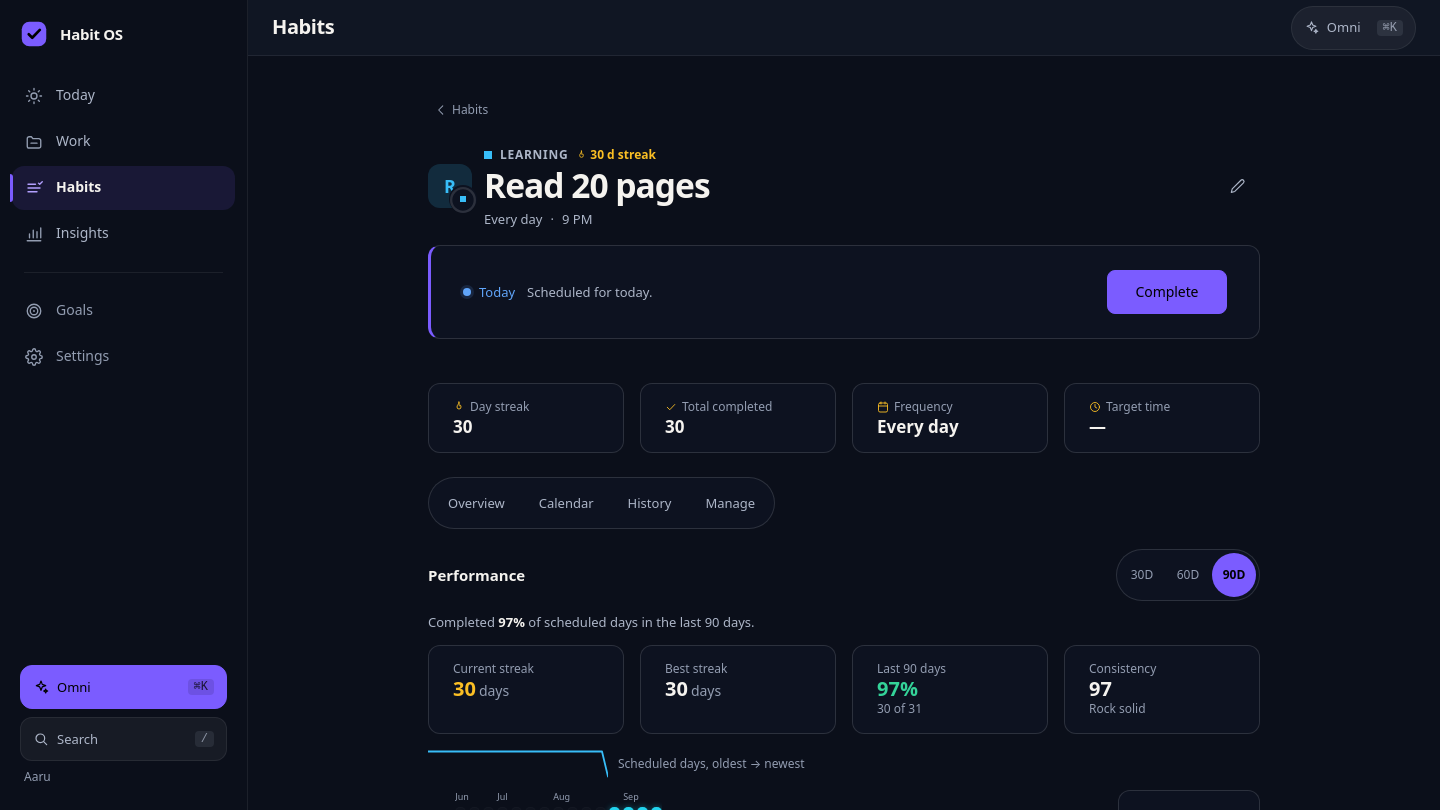
Step 4G-2B: Habit Detail hero compact entity header › Complete toggles to Completed/Undo with canonical aria-pressed
The width and height of the screenshot is (1440, 810).
Click the button with aria-label "Mark Read 20 pages as complete" at coordinates (1167, 292), box x1=1107 y1=270 x2=1227 y2=314
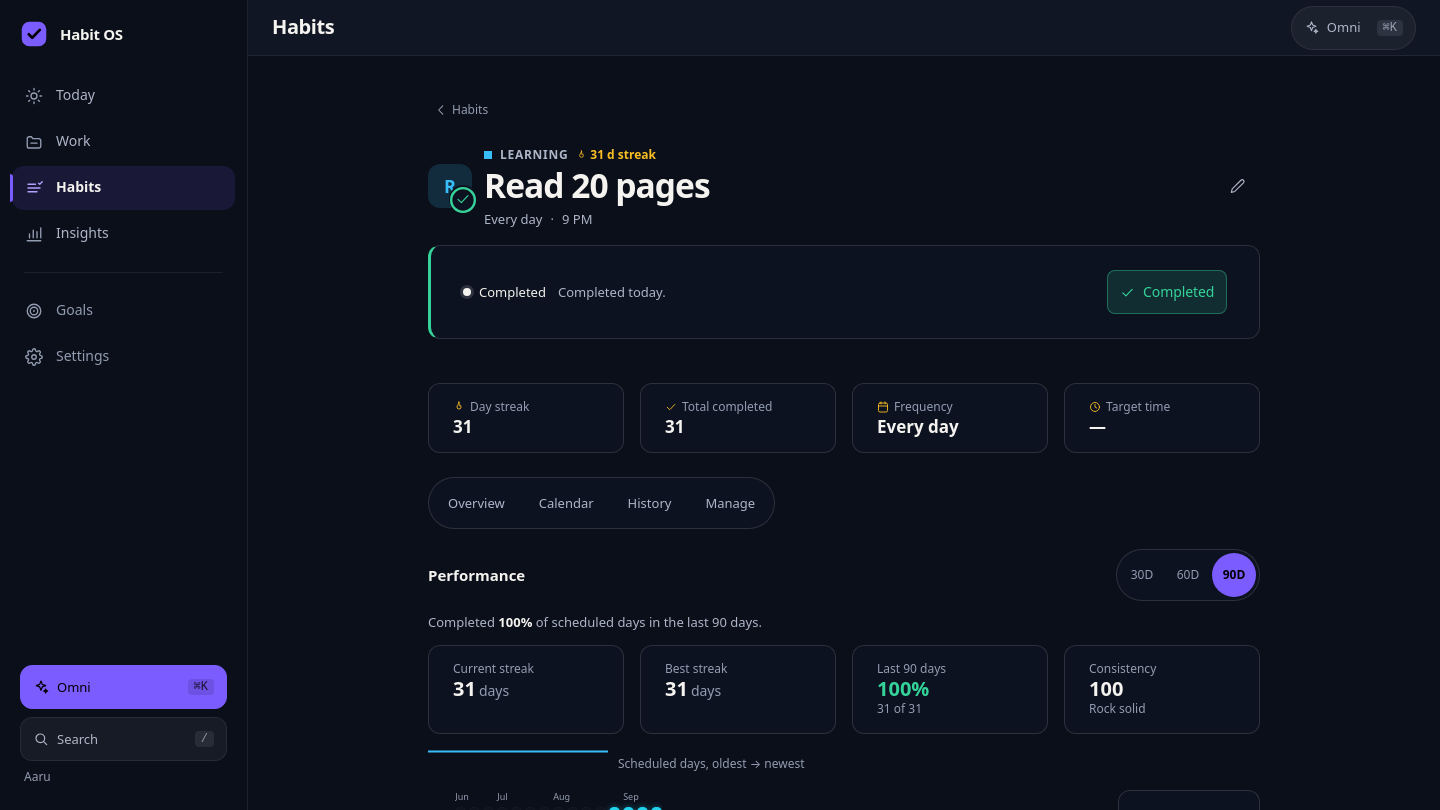
expect the text "Completed today." is shown: met, box x1=558 y1=283 x2=666 y2=301
